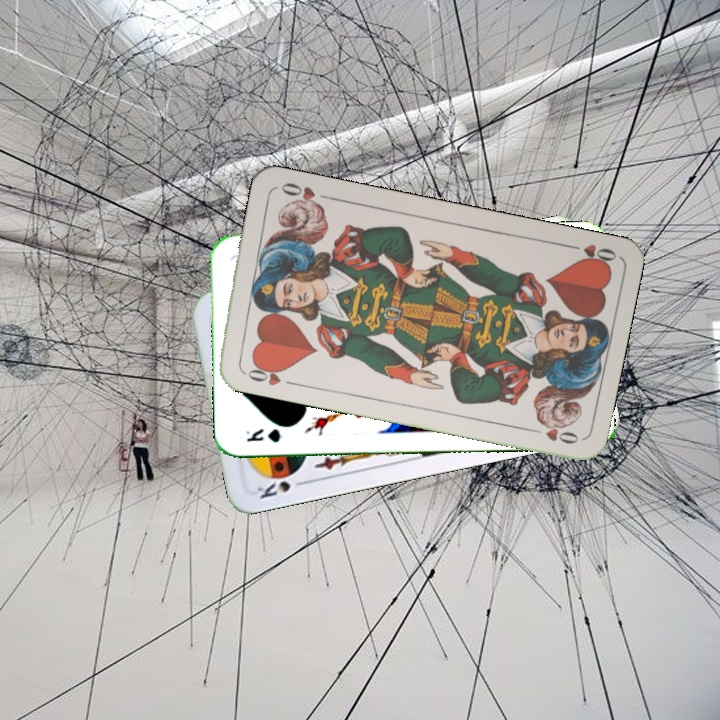GK: (242, 424, 286, 445)
HO: (238, 358, 296, 389), (560, 239, 619, 269)
SK: (253, 468, 310, 501)
